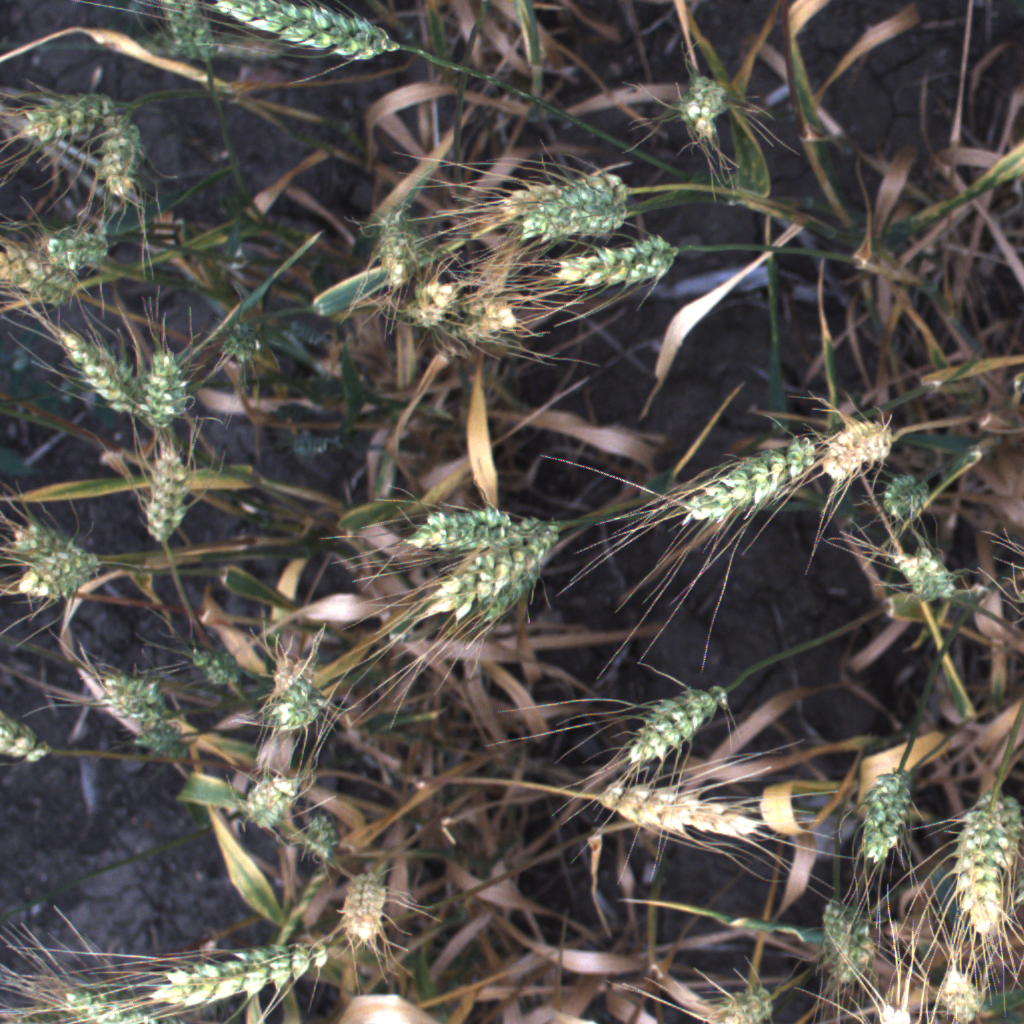wheat_head: (404, 506, 579, 632), (582, 771, 776, 854), (206, 0, 418, 72), (31, 305, 155, 427), (673, 433, 821, 525), (466, 515, 575, 636), (620, 673, 739, 780), (160, 933, 339, 1003), (392, 497, 570, 564), (468, 161, 640, 227), (542, 222, 693, 297), (838, 761, 926, 871), (491, 189, 644, 250), (77, 653, 195, 729), (128, 328, 208, 440), (0, 536, 116, 611), (961, 784, 1014, 945), (0, 506, 120, 577), (945, 798, 1005, 930), (224, 760, 314, 842), (3, 88, 109, 157), (331, 863, 401, 958), (815, 413, 905, 485), (0, 234, 79, 312), (888, 537, 964, 611), (63, 988, 219, 1024), (682, 974, 790, 1024), (287, 794, 356, 868), (143, 442, 194, 539), (121, 712, 208, 765), (157, 2, 238, 56), (266, 657, 323, 733), (824, 901, 873, 978), (0, 705, 58, 770), (91, 114, 141, 188), (447, 291, 522, 340), (880, 468, 936, 533), (988, 781, 1024, 877), (937, 964, 990, 1023), (47, 226, 112, 272), (375, 211, 414, 287), (405, 276, 461, 326), (682, 79, 726, 142), (223, 319, 264, 362), (200, 654, 239, 688), (878, 1005, 919, 1024)
